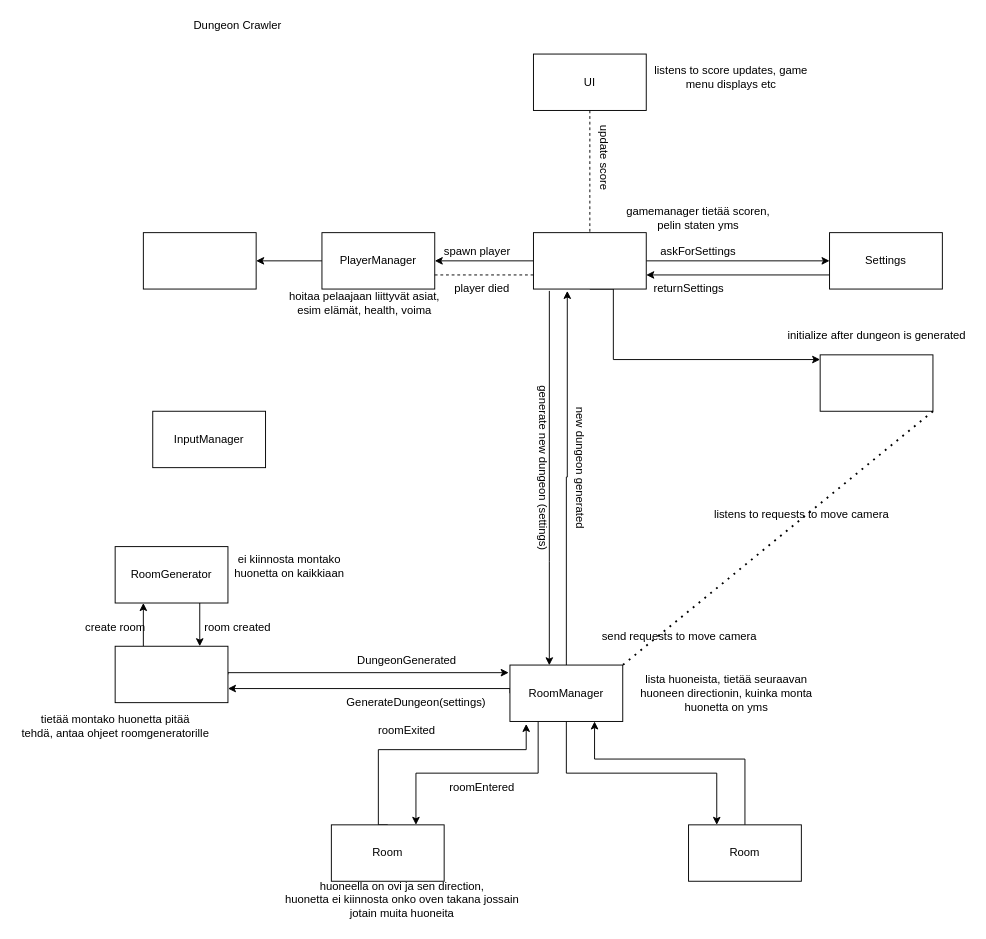
This 986x939 diagram has some shape labels left out. The box of each missing label's shape, as (x1, y1, x2, y2) in pixels:
CameraMover: (819, 354, 933, 411)
DungeonGenerator: (114, 645, 228, 703)
GameManager: (533, 232, 646, 289)
Player: (142, 232, 256, 289)
